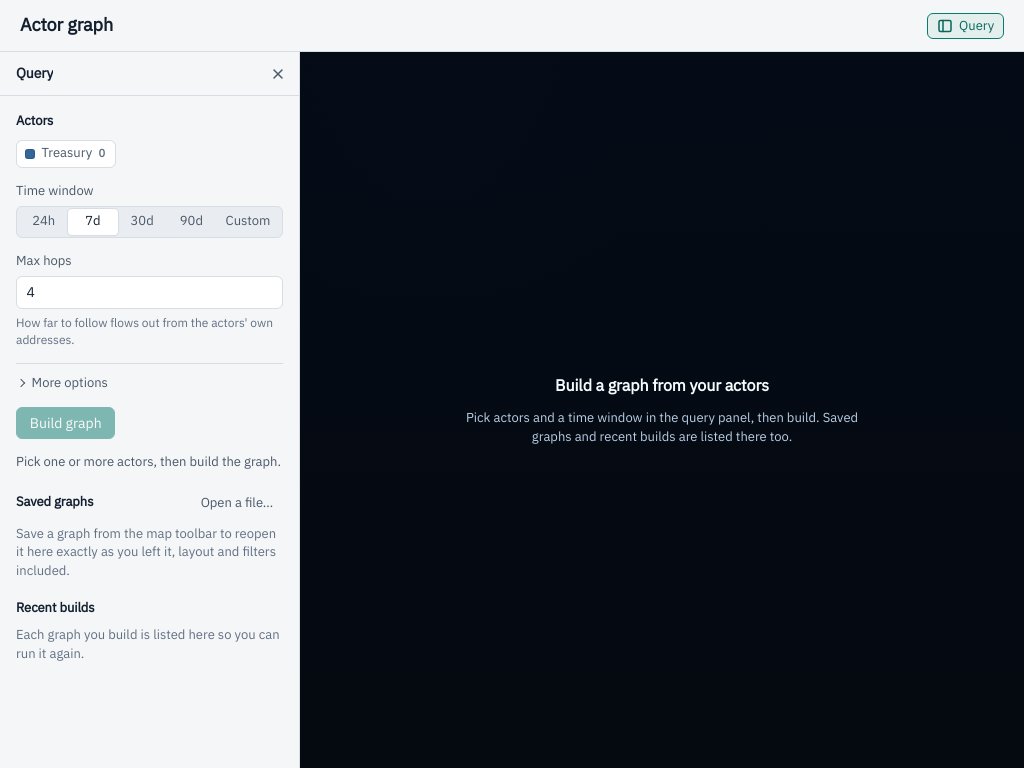
Test: ActorGraphPage › renders the graph before background live holdings refresh finishes
This screenshot has width=1024, height=768.
Expected: the text "Treasury" is shown, 41,144 -> 92,163
Click the checkbox labelled "Treasury 0": click(32, 154) 25,146 -> 40,161
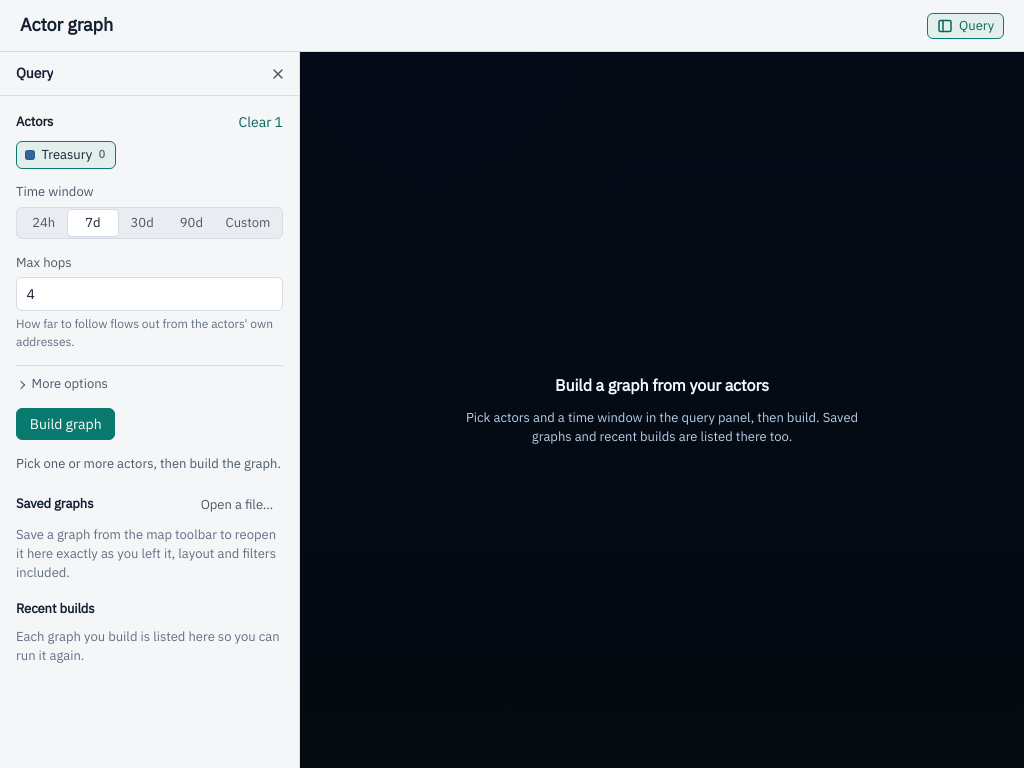
Click the button "Build graph": click(66, 424) 16,408 -> 116,440
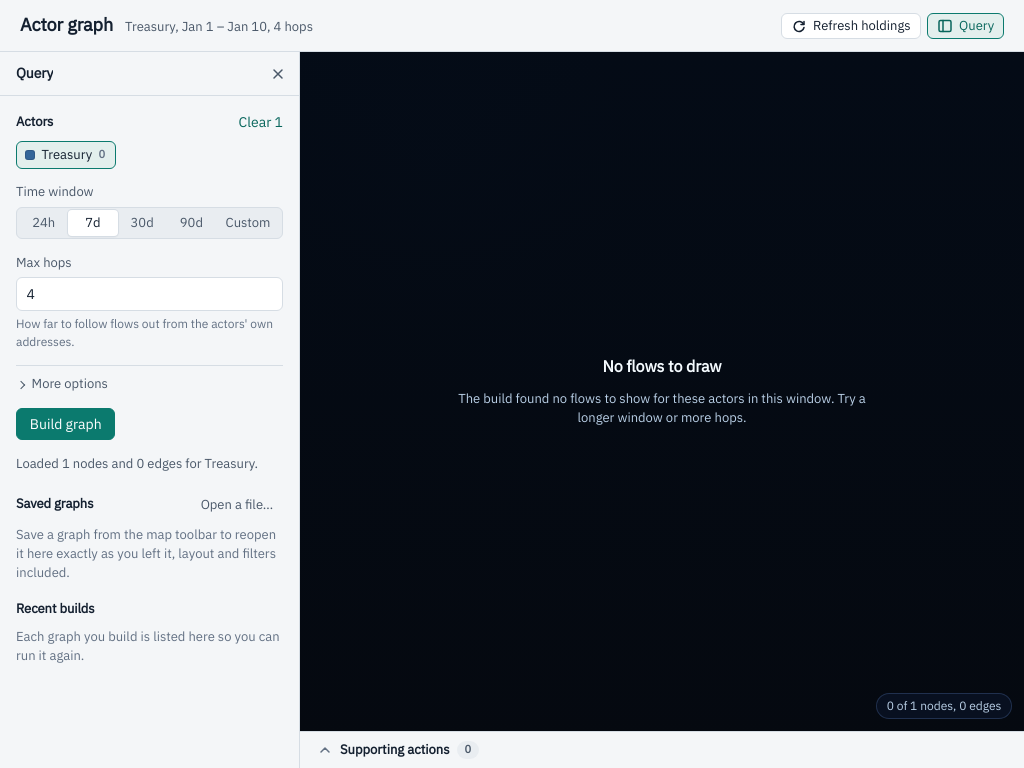
Expected: the text "Treasury, Jan 1 – Jan 10, 4 hops" is shown, 125,18 -> 313,37
Expected: the text "Loaded 1 nodes and 0 edges for Treasury." is shown, 16,455 -> 283,474
